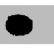correct: (4, 13, 36, 37)
